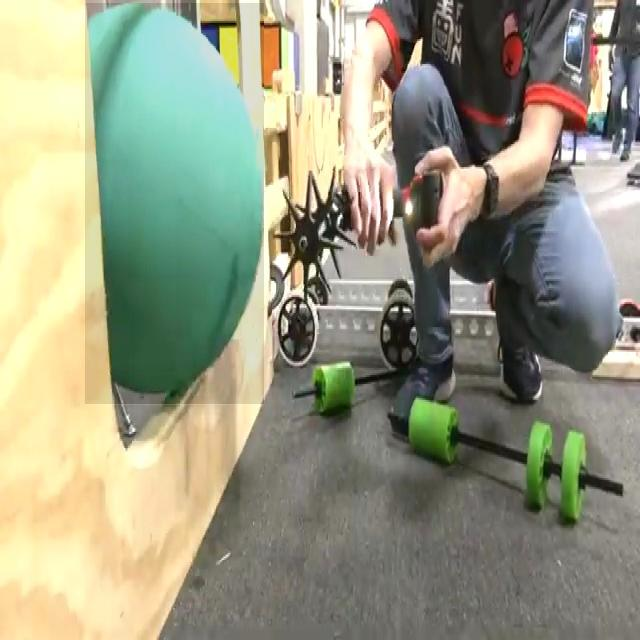Algae: (85, 3, 264, 406)
